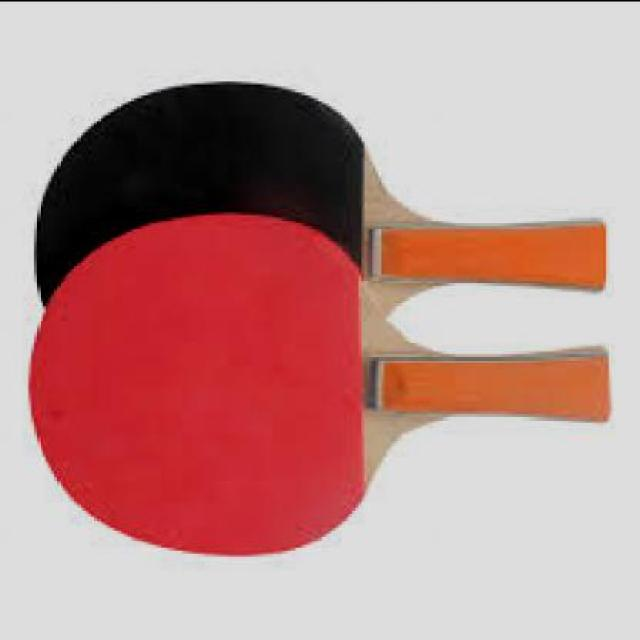table_tennis_racket: (33, 205, 384, 562), (33, 59, 421, 333)
